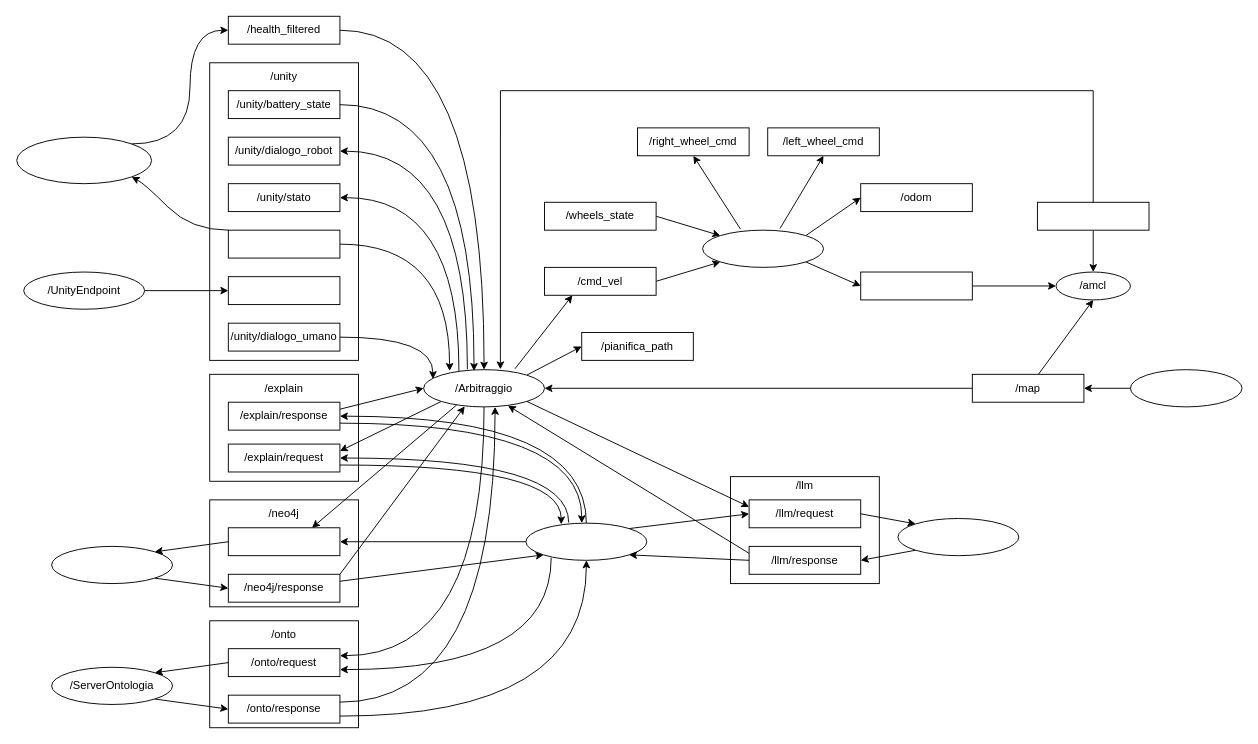
Some shapes in this 1258 by 744 pixel diagram are drawn without their labels. Here are the shapes that lost their labels. From the top down, the centre of each, then its label:
the point at 84,160: /BraccialettiManager
the point at 1092,215: /scan
the point at 283,243: /unity/bottone
the point at 763,248: /DiffRobotController
the point at 283,290: /unity/health_raw
the point at 916,285: /initialpose
the point at 1185,388: /map_server
the point at 283,541: /neo4j/request
the point at 586,541: /SpiegamiTutto
the point at 958,537: /ServerLLM
the point at 112,564: /ServerNeo4j
